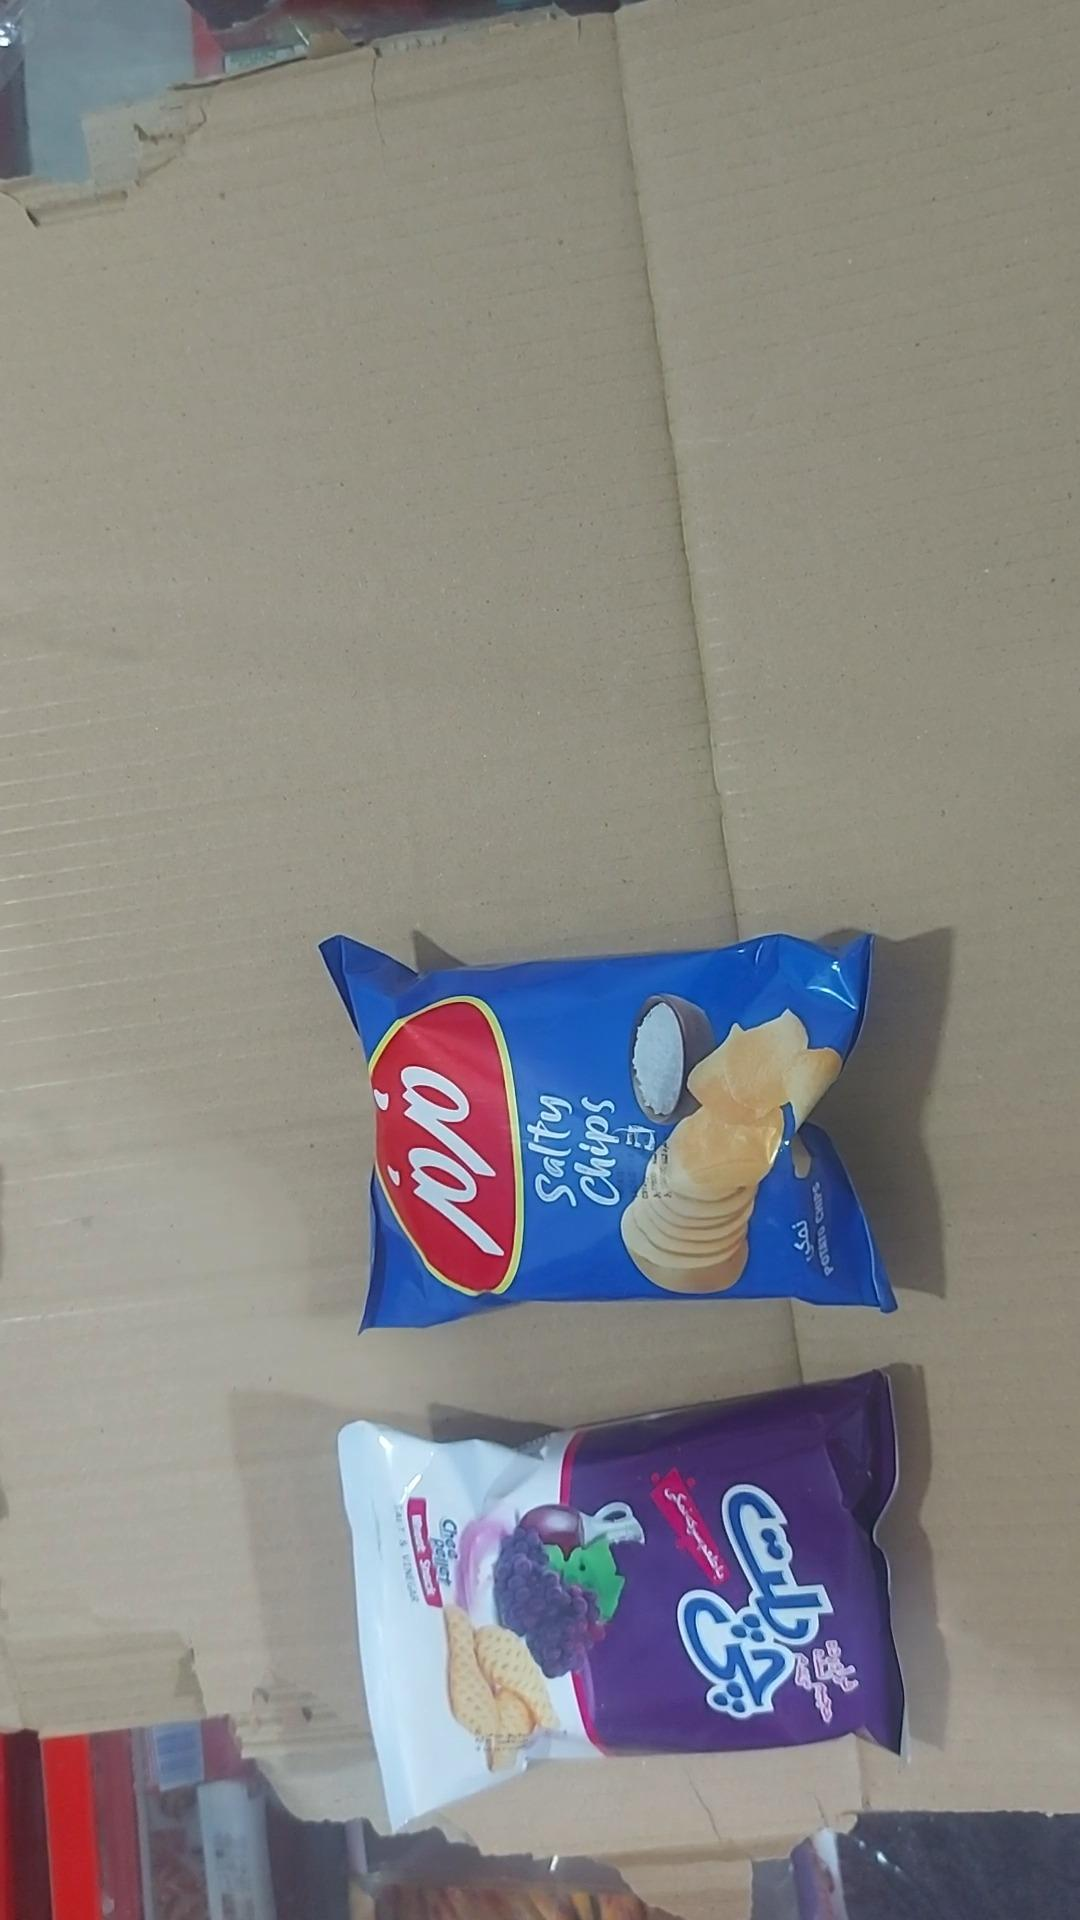Chee pellet vinegar: (338, 1373, 905, 1833)
Maz Maz salty chips: (318, 930, 898, 1333)
